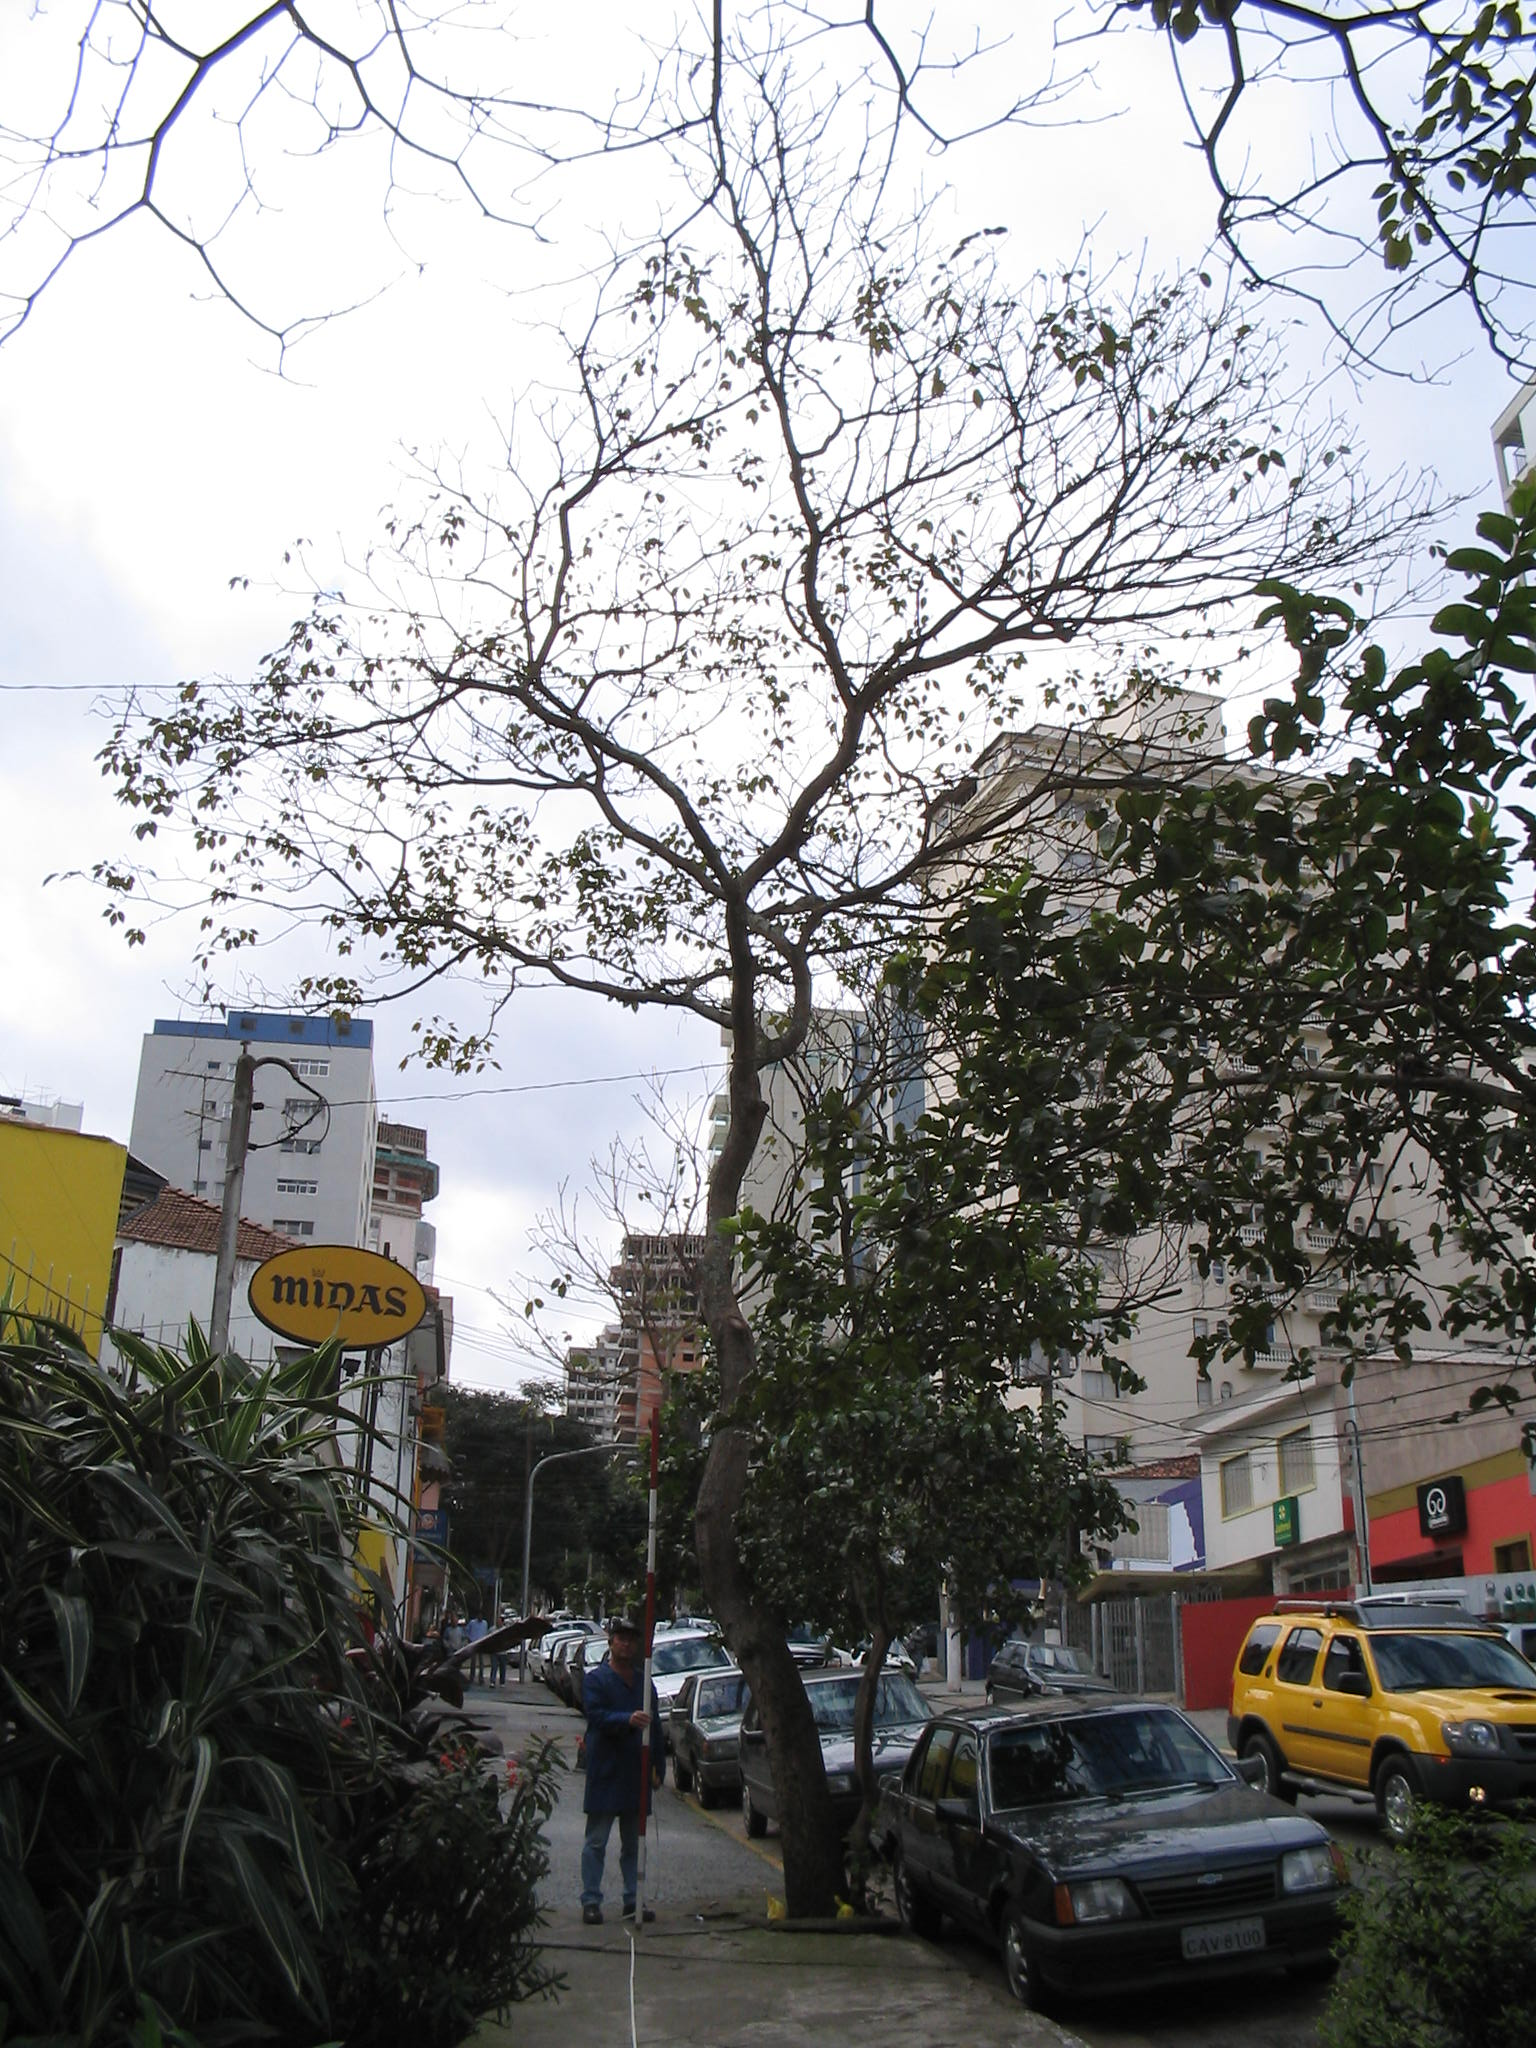stem: (681, 1084, 860, 1917)
stick: (608, 1400, 689, 1925)
tree: (56, 200, 1444, 1924)
